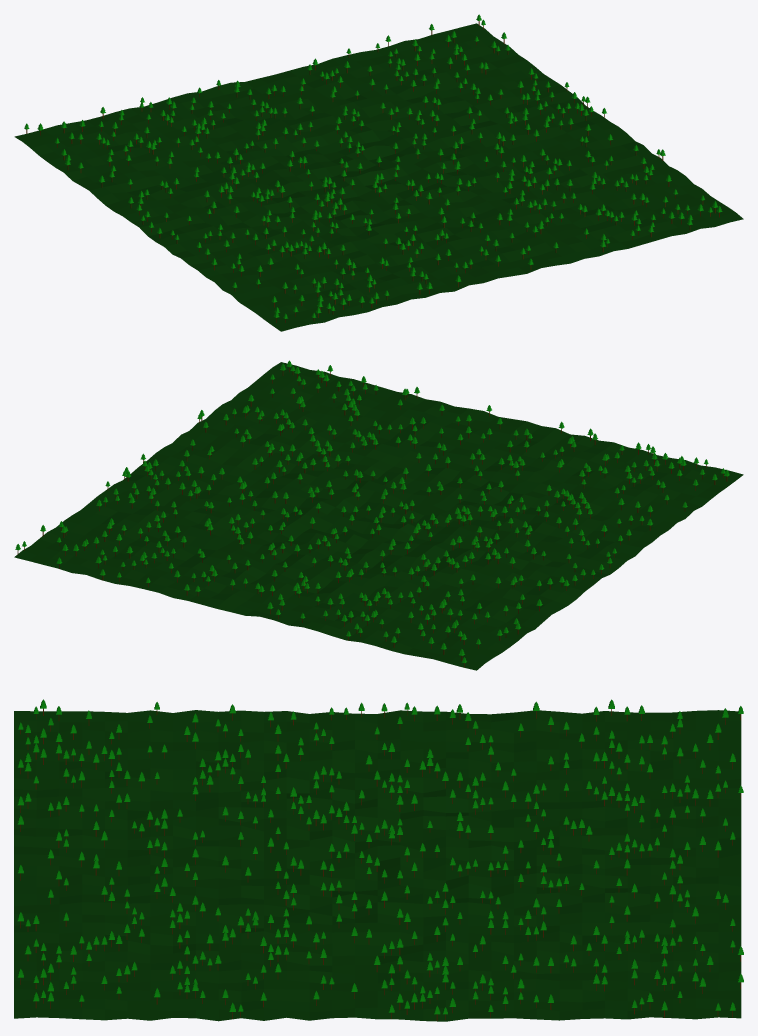
3 renders of one model, top to bottom at view 1: azimuth 30°, elevation 25°; view 2: azimuth 150°, elevation 25°; view 3: azimuth 270°, elevation 25°, orthographic. The views are drawn at different scales.
Parts seen in each view (by area): view 1: Plane; view 2: Plane; view 3: Plane.
Boxes of the visible parts, x1,y1,x2,y2 form: Plane: (14, 14, 743, 331); Plane: (14, 360, 743, 670); Plane: (14, 699, 743, 1021).
Bounding box in the file's own units: 40.11 × 3.1 × 40.14.
